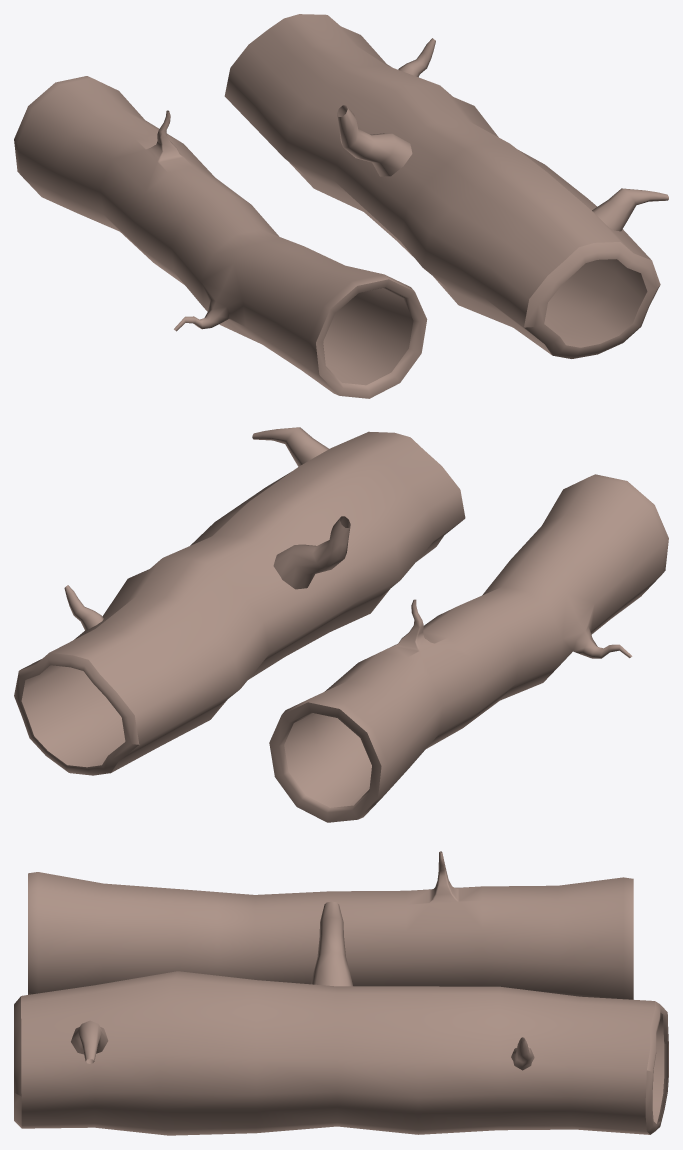
The model's file is Troncos.fbx.
The picture shows the model from 3 angles, top to bottom: view 1: azimuth 30°, elevation 25°; view 2: azimuth 150°, elevation 25°; view 3: azimuth 270°, elevation 25°; orthographic projection. The views are drawn at different scales.
Parts seen in each view (by area): view 1: Tronco:TroncoConRamas, Tronco:Tronco_2; view 2: Tronco:TroncoConRamas, Tronco:Tronco_2; view 3: Tronco:TroncoConRamas, Tronco:Tronco_2.
Boxes of the visible parts, box(x1,y1,x2,y2) form: Tronco:TroncoConRamas: box(224, 14, 668, 358); Tronco:Tronco_2: box(14, 76, 427, 398); Tronco:TroncoConRamas: box(14, 427, 465, 775); Tronco:Tronco_2: box(269, 474, 668, 822); Tronco:TroncoConRamas: box(14, 901, 668, 1135); Tronco:Tronco_2: box(28, 851, 633, 999).
Bounding box in the file's own units: 7.2 × 2.8 × 9.1.
